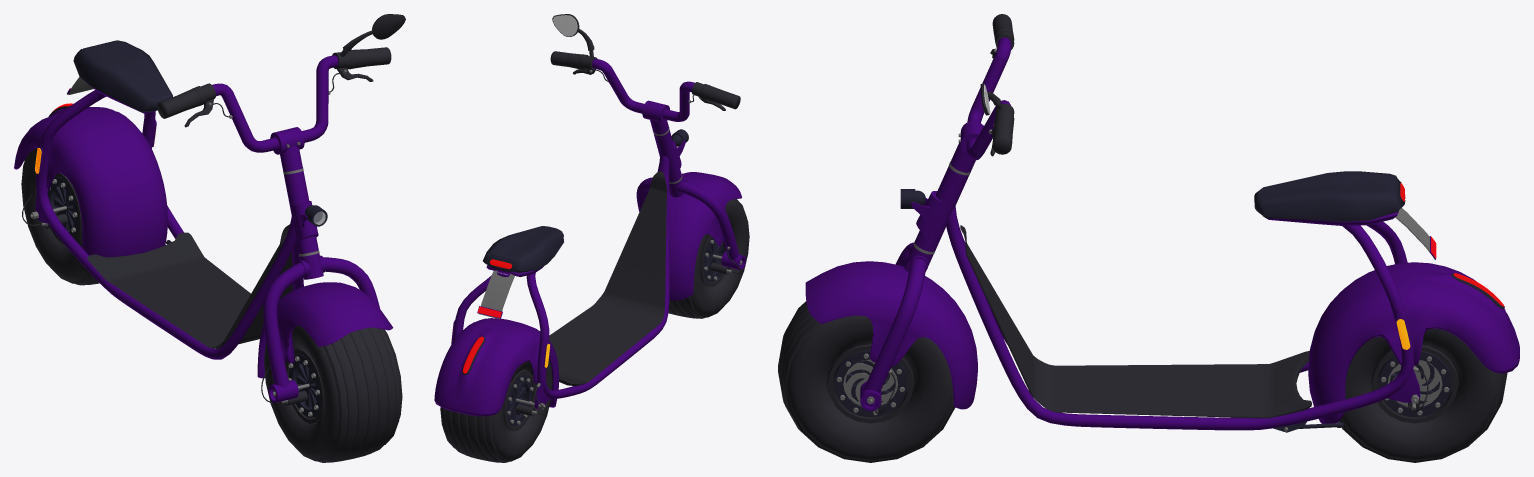
Rendered from Scrooser.fbx.
3 views of the same model, side by side, from view 1: azimuth 30°, elevation 25°; view 2: azimuth 150°, elevation 25°; view 3: azimuth 270°, elevation 25° (orthographic). The views are drawn at different scales.
Visible parts, largest first — view 1: pCylinder25, pCylinder1, pCube1, extrudedSurface4, pCylinder8, pCube2, pCylinder10, extrudedSurface3, extrudedSurface1, pCylinder17, pCylinder3, pCylinder31 (+6 smaller); view 2: pCube1, pCylinder25, pCylinder10, pCylinder8, extrudedSurface4, pCylinder1, pCube2, extrudedSurface3, extrudedSurface1, pCylinder17, pCylinder3, pCube4 (+5 smaller); view 3: pCube1, pCylinder1, pCylinder25, pCylinder10, extrudedSurface4, pCylinder8, pCube2, extrudedSurface3, pCylinder3, extrudedSurface1, pCylinder31, pCylinder32 (+4 smaller).
Part boxes in pixels (left/top/right/bottom): pCylinder25: left=14, top=107, right=167, bottom=257; pCylinder1: left=264, top=325, right=402, bottom=462; pCube1: left=87, top=224, right=292, bottom=348; extrudedSurface4: left=35, top=90, right=303, bottom=359; pCylinder8: left=257, top=282, right=393, bottom=378; pCube2: left=73, top=40, right=172, bottom=112; pCylinder10: left=21, top=148, right=99, bottom=285; extrudedSurface3: left=263, top=255, right=379, bottom=387; extrudedSurface1: left=212, top=55, right=338, bottom=152; pCylinder17: left=157, top=47, right=391, bottom=118; pCylinder3: left=280, top=145, right=323, bottom=279; pCylinder31: left=288, top=354, right=321, bottom=417; pCube1: left=549, top=171, right=667, bottom=386; pCylinder25: left=434, top=318, right=559, bottom=416; pCylinder10: left=440, top=359, right=552, bottom=462; pCylinder8: left=669, top=172, right=741, bottom=300; extrudedSurface4: left=453, top=155, right=669, bottom=408; pCylinder1: left=668, top=199, right=749, bottom=318; pCube2: left=483, top=226, right=563, bottom=272; extrudedSurface3: left=636, top=177, right=739, bottom=260; extrudedSurface1: left=592, top=58, right=694, bottom=121; pCylinder17: left=550, top=51, right=740, bottom=109; pCylinder3: left=650, top=120, right=684, bottom=197; pCube4: left=478, top=270, right=514, bottom=319; pCube1: left=960, top=225, right=1311, bottom=418; pCylinder1: left=778, top=301, right=955, bottom=462; pCylinder25: left=1308, top=262, right=1519, bottom=423; pCylinder10: left=1339, top=328, right=1507, bottom=462; extrudedSurface4: left=946, top=206, right=1420, bottom=430; pCylinder8: left=805, top=261, right=977, bottom=409; pCube2: left=1254, top=171, right=1405, bottom=221; extrudedSurface3: left=863, top=242, right=928, bottom=392; pCylinder3: left=903, top=142, right=975, bottom=272; extrudedSurface1: left=966, top=37, right=1011, bottom=160; pCylinder31: left=834, top=350, right=907, bottom=417; pCylinder32: left=1378, top=351, right=1451, bottom=417.
Size of the model in its own units: 8.06 by 12.33 by 19.55.
